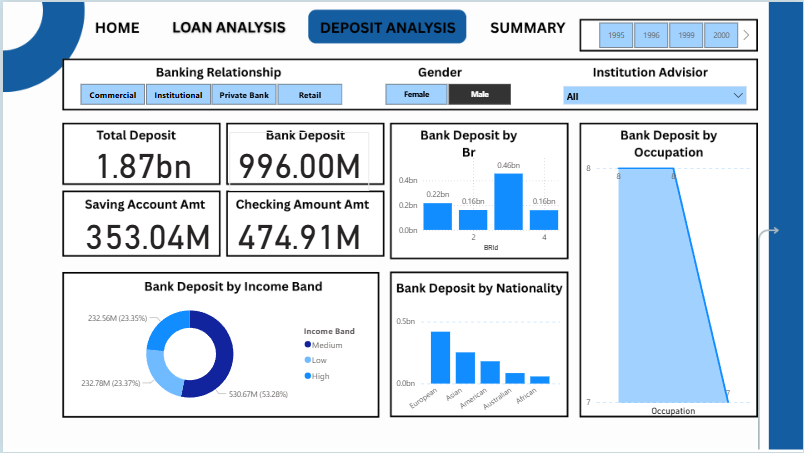

Layout of this report page (visuals, bound fields, positions):
{"tool":"powerbi","page":{"name":"Doposit Analysis","canvas":[1280,720],"ordinal":2},"visuals":[{"type":"actionButton","box":[132.7,22.1,99.5,40.1],"z":0},{"type":"actionButton","box":[258.5,22.1,206,40.1],"z":1000},{"type":"actionButton","box":[766,22.1,143.8,40.1],"z":2000},{"type":"card","fields":{"Values":["banking data.Total Deposit"]},"box":[112,208.8,224,94],"z":3000},{"type":"card","fields":{"Values":["Sum(banking-clients csv.Bank Deposits)"]},"box":[362.2,208.8,224,94],"z":4000},{"type":"card","fields":{"Values":["Sum(banking-clients csv.Saving Accounts)"]},"box":[120.3,322.1,224,94],"z":5000},{"type":"card","fields":{"Values":["Sum(banking-clients csv.Checking Accounts)"]},"box":[362.2,322.1,224,94],"z":6000},{"type":"donutChart","fields":{"Category":["banking-clients csv.Income Band"],"Y":["Sum(banking-clients csv.Bank Deposits)"]},"box":[112,468.7,474.2,190.8],"z":7000},{"type":"clusteredColumnChart","fields":{"Category":["banking-clients csv.BRId"],"Y":["Sum(banking-clients csv.Bank Deposits)"]},"box":[627.7,236.4,265.5,168.7],"z":8000},{"type":"slicer","fields":{"Values":["banking-realtionships csv.Banking Relationship"]},"box":[98.2,123.1,468.7,47],"z":9000},{"type":"slicer","fields":{"Values":["banking-clients csv.GenderId"]},"box":[586.2,123.1,250.2,47],"z":10000},{"type":"slicer","fields":{"Values":["banking-clients csv.IAId"]},"box":[886.2,123.1,313.8,41.5],"z":11000},{"type":"slicer","fields":{"Values":["banking-clients csv.joined year"]},"box":[927.7,26.3,272.4,53.9],"z":12000},{"type":"clusteredColumnChart","fields":{"Category":["banking-clients csv.Nationality"],"Y":["Sum(banking-clients csv.Bank Deposits)"]},"box":[623.8,477.5,272.5,198.8],"z":13000},{"type":"areaChart","fields":{"Category":["banking-clients csv.Occupation"],"Y":["CountNonNull(banking-clients csv.Income Band)"]},"box":[927.7,251.6,272.4,416.2],"z":14000}]}

Visuals, with their boxes in screenshot pixels (x1, y1, x2, y2), scaled from the page's 1280x720 canvas onto the 804x453 screenshot:
actionButton: x1=83, y1=14, x2=146, y2=39
actionButton: x1=162, y1=14, x2=292, y2=39
actionButton: x1=481, y1=14, x2=571, y2=39
card - banking data.Total Deposit: x1=70, y1=131, x2=211, y2=191
card - Sum(banking-clients csv.Bank Deposits): x1=228, y1=131, x2=368, y2=191
card - Sum(banking-clients csv.Saving Accounts): x1=76, y1=203, x2=216, y2=262
card - Sum(banking-clients csv.Checking Accounts): x1=228, y1=203, x2=368, y2=262
donutChart - banking-clients csv.Income Band x Sum(banking-clients csv.Bank Deposits): x1=70, y1=295, x2=368, y2=415
clusteredColumnChart - banking-clients csv.BRId x Sum(banking-clients csv.Bank Deposits): x1=394, y1=149, x2=561, y2=255
slicer - banking-realtionships csv.Banking Relationship: x1=62, y1=77, x2=356, y2=107
slicer - banking-clients csv.GenderId: x1=368, y1=77, x2=525, y2=107
slicer - banking-clients csv.IAId: x1=557, y1=77, x2=754, y2=104
slicer - banking-clients csv.joined year: x1=583, y1=17, x2=754, y2=50
clusteredColumnChart - banking-clients csv.Nationality x Sum(banking-clients csv.Bank Deposits): x1=392, y1=300, x2=563, y2=426
areaChart - banking-clients csv.Occupation x CountNonNull(banking-clients csv.Income Band): x1=583, y1=158, x2=754, y2=420
